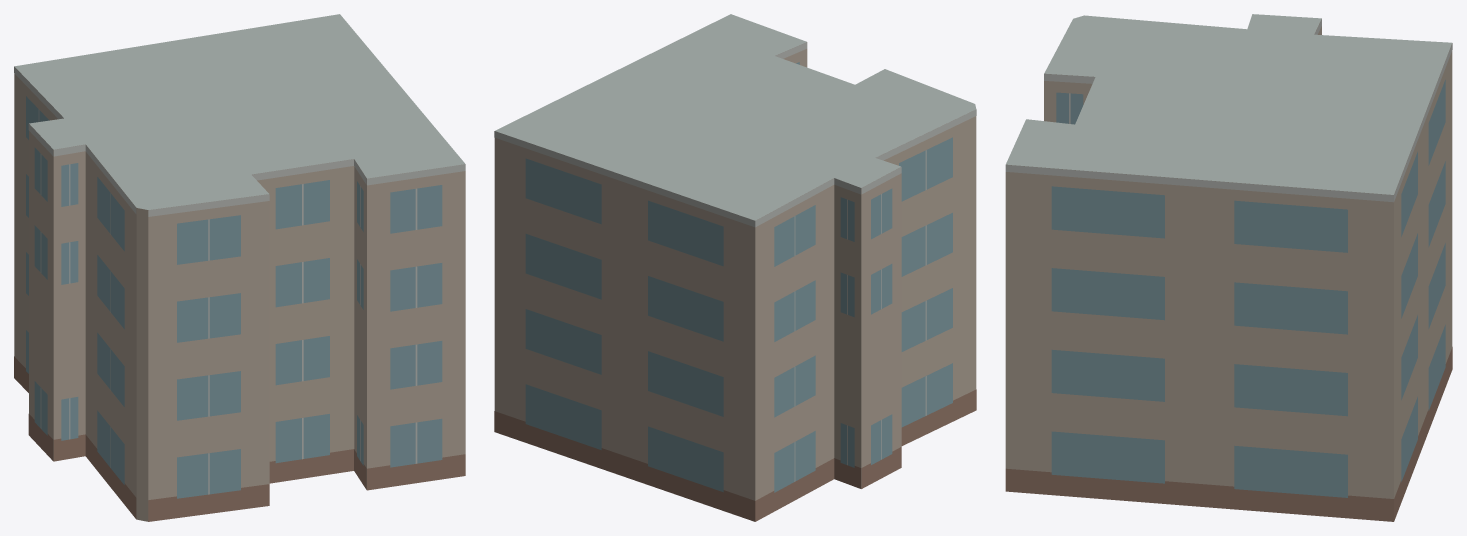
File: survey-upis-32690095.glb
The picture shows the model from 3 angles, left to right: view 1: azimuth 30°, elevation 25°; view 2: azimuth 150°, elevation 25°; view 3: azimuth 270°, elevation 25°; orthographic projection. The views are drawn at different scales.
Parts seen in each view (by area): view 1: survey-upis-32690095.tmp; view 2: survey-upis-32690095.tmp; view 3: survey-upis-32690095.tmp.
Part boxes in pixels (left/top/right/bottom): survey-upis-32690095.tmp: left=14, top=14, right=465, bottom=521; survey-upis-32690095.tmp: left=494, top=14, right=976, bottom=521; survey-upis-32690095.tmp: left=1005, top=14, right=1452, bottom=521.
Bounding box in the file's own units: 13.16 × 11.07 × 13.72.
